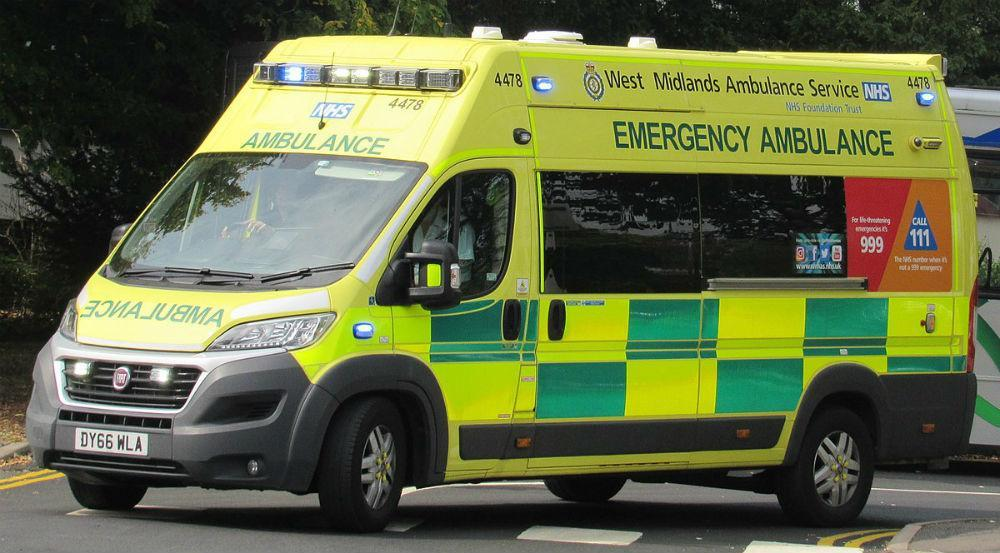Ambulance: (68, 293, 239, 342), (226, 120, 408, 164), (750, 118, 909, 167), (720, 66, 808, 105)
